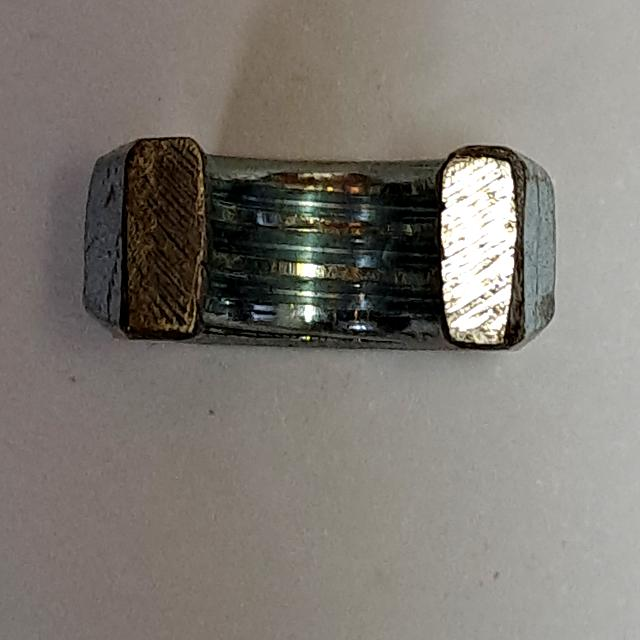Side-Fracture: (66, 119, 573, 373)
